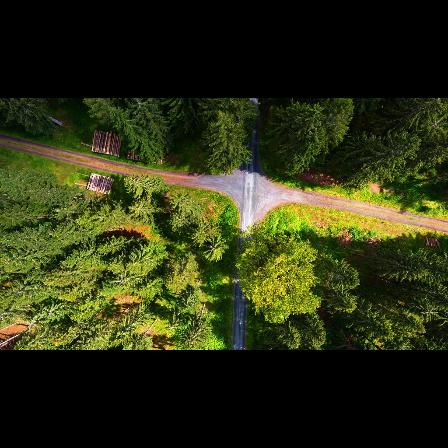Sick: (424, 113, 448, 136), (160, 315, 184, 336)
